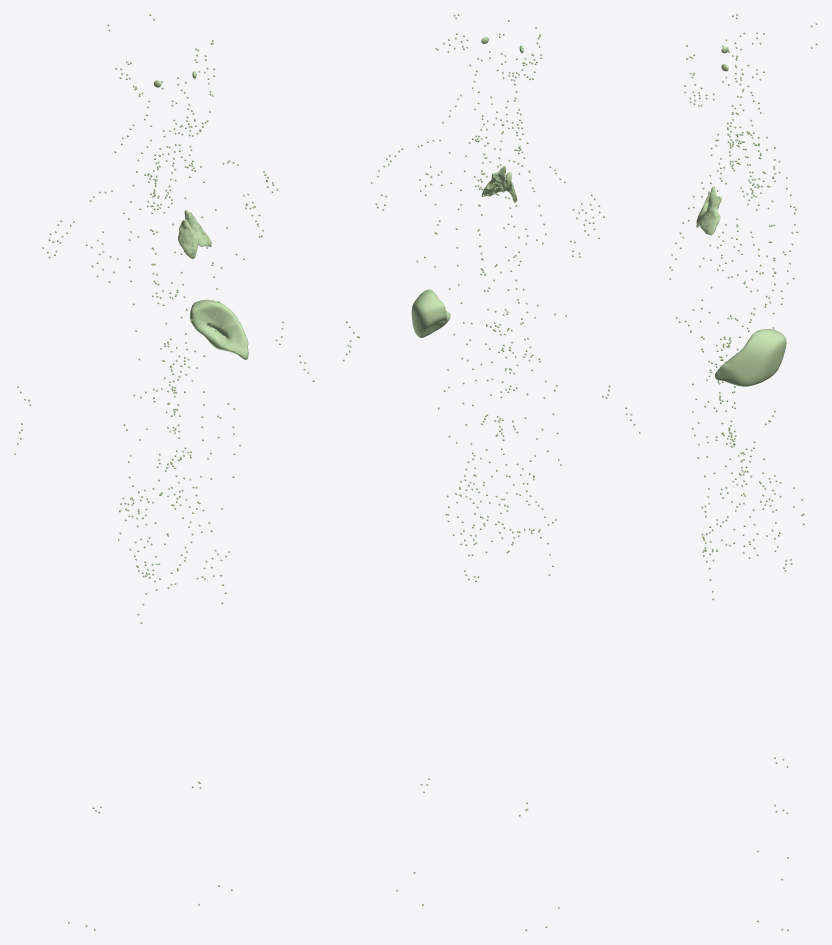
The model's file is lymphoid.glb.
The picture shows the model from 3 angles, left to right: view 1: azimuth 30°, elevation 25°; view 2: azimuth 150°, elevation 25°; view 3: azimuth 270°, elevation 25°; orthographic projection.
Parts seen in each view (by area): view 1: lymphoid; view 2: lymphoid; view 3: lymphoid.
Boxes of the visible parts, left/top/right/bottom form: lymphoid: left=14, top=14, right=314, bottom=930; lymphoid: left=343, top=14, right=640, bottom=930; lymphoid: left=669, top=14, right=817, bottom=930.
Size of the model in its own units: 0.4523 by 1.28 by 0.1963.
